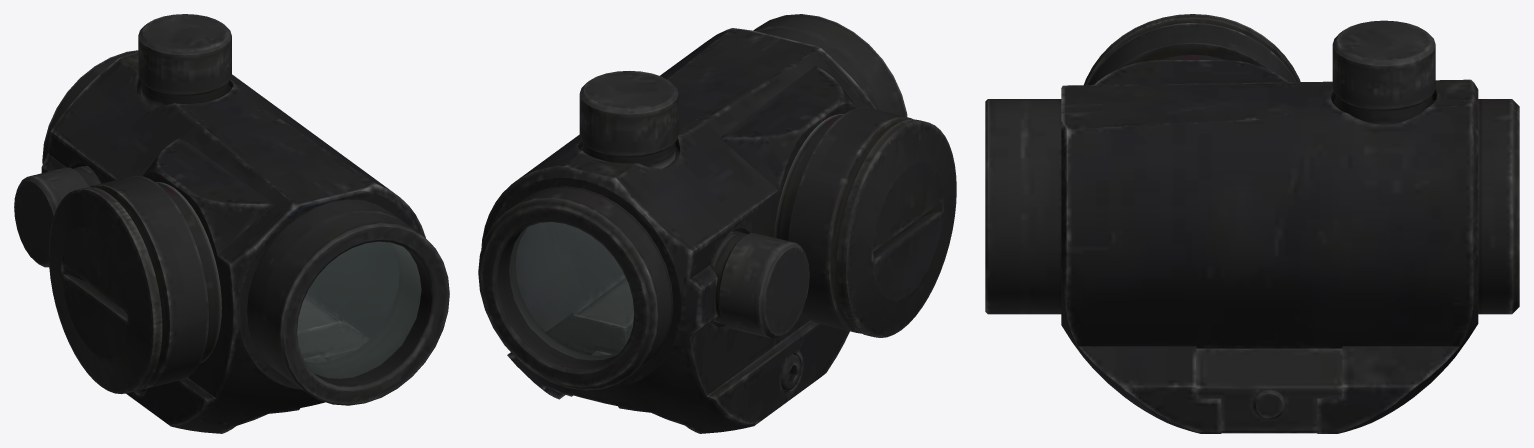
The model's file is rd-aimpoint.glb.
3 views of the same model, side by side, from view 1: azimuth 30°, elevation 25°; view 2: azimuth 150°, elevation 25°; view 3: azimuth 270°, elevation 25° (orthographic). The views are drawn at different scales.
Visible parts, largest first — view 1: wRing.010__0, wSphere.002_Scope_0; view 2: wRing.010__0, wSphere.002_Scope_0; view 3: wRing.010__0.
Boxes of the visible parts, x1,y1,x2,y2 form: wRing.010__0: (14, 14, 449, 433); wSphere.002_Scope_0: (297, 242, 421, 378); wRing.010__0: (478, 14, 956, 433); wSphere.002_Scope_0: (509, 222, 633, 359); wRing.010__0: (985, 14, 1519, 433).
Size of the model in its own units: 0.0468 by 0.0493 by 0.07.
Materials: 2 (1 with a texture image).
